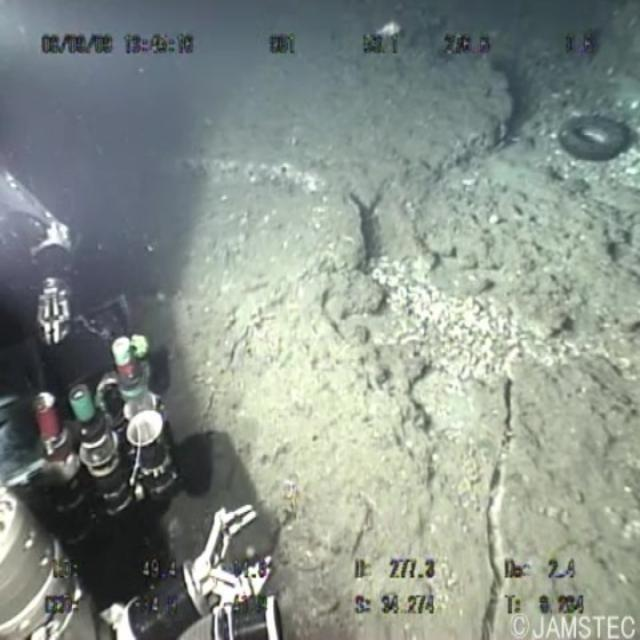Rubber: (548, 96, 640, 206)
